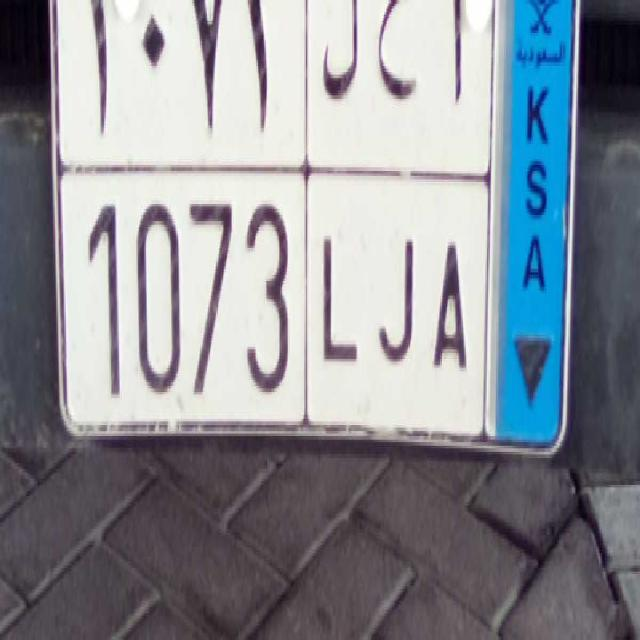license_plate: (57, 154, 487, 443)
